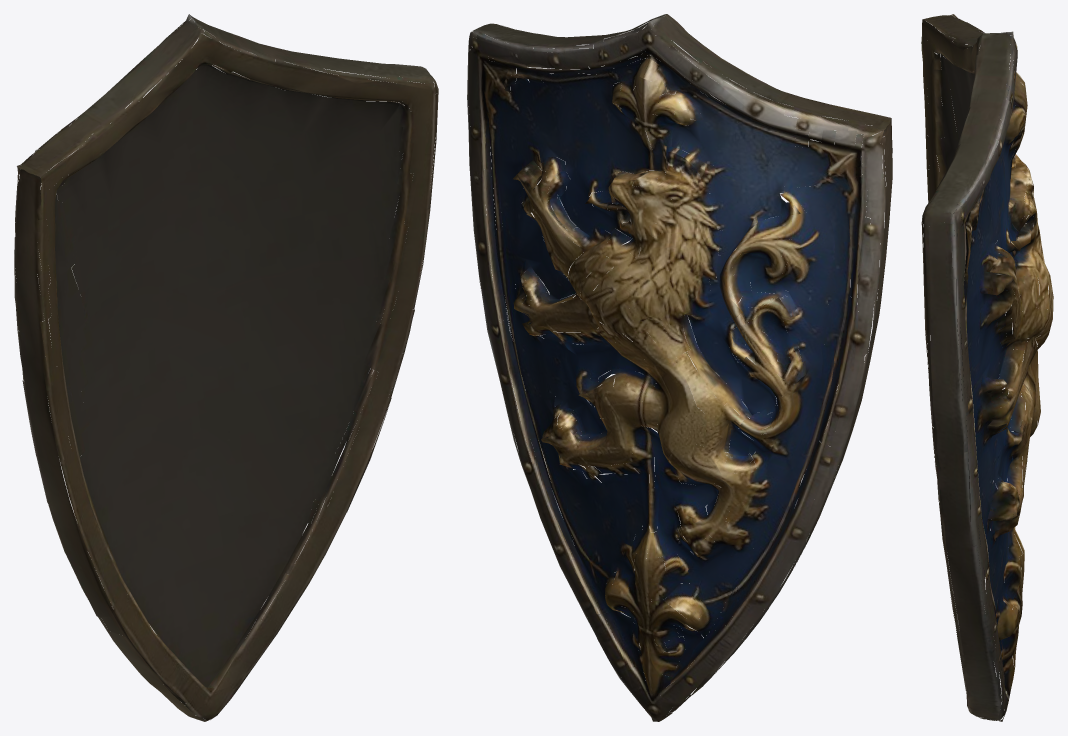
File: kite_royal_lion.glb
3 views of the same model, side by side, from view 1: azimuth 30°, elevation 25°; view 2: azimuth 150°, elevation 25°; view 3: azimuth 270°, elevation 25° (orthographic). The views are drawn at different scales.
Visible parts, largest first — view 1: kite_royal_lion; view 2: kite_royal_lion; view 3: kite_royal_lion.
Boxes of the visible parts, <box> form: kite_royal_lion: <box>14,14,438,721</box>; kite_royal_lion: <box>467,14,892,721</box>; kite_royal_lion: <box>921,14,1053,721</box>.
Size of the model in its own units: 0.4526 by 0.7297 by 0.1268.
Materials: 1 (1 with a texture image).
